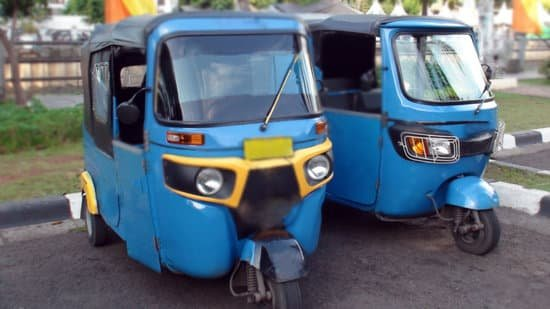threewheel: (80, 10, 336, 309), (300, 13, 504, 256)
